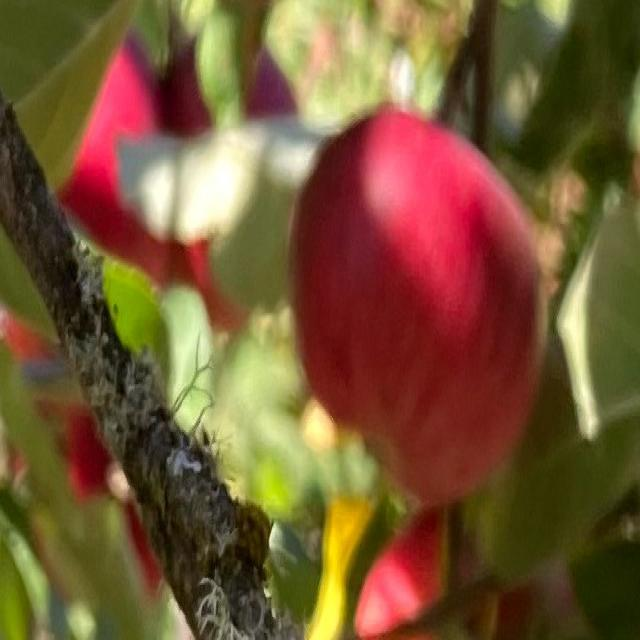Apples: (293, 106, 542, 506), (165, 43, 293, 343), (57, 23, 164, 286), (353, 514, 548, 638), (7, 400, 113, 604), (0, 307, 57, 489), (110, 466, 168, 596)
